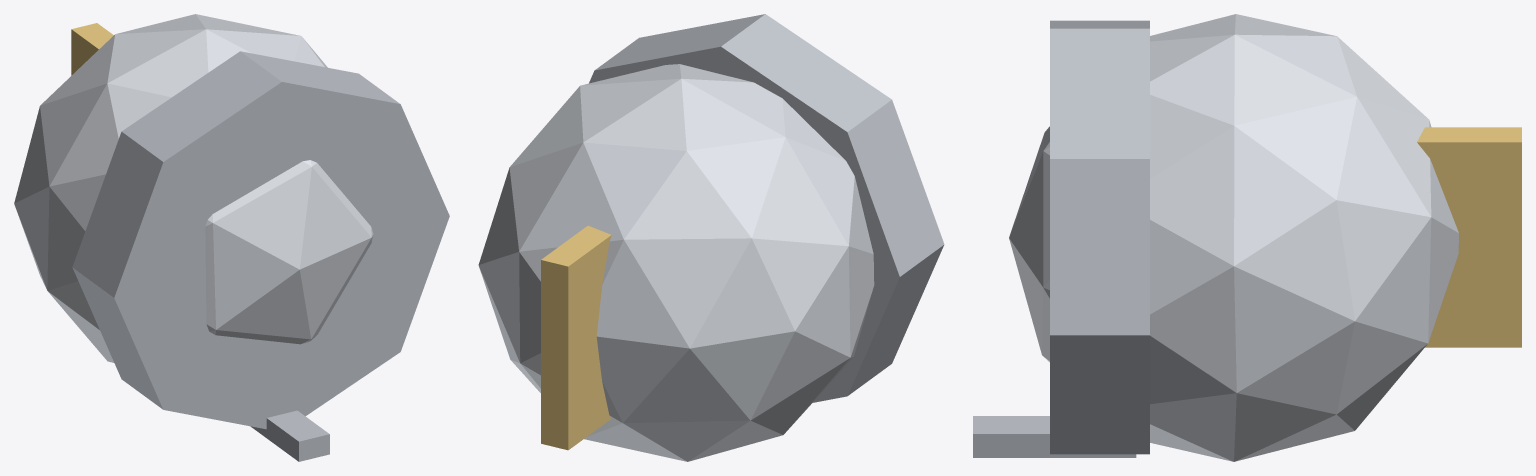
File: HelmetBastion.fbx
3 renders of one model, left to right at view 1: azimuth 30°, elevation 25°; view 2: azimuth 150°, elevation 25°; view 3: azimuth 270°, elevation 25°, orthographic. The views are drawn at different scales.
Visible parts, largest first — view 1: fam_steel_dark, fam_steel, fam_gold; view 2: fam_steel, fam_steel_dark, fam_gold; view 3: fam_steel, fam_steel_dark, fam_gold.
Boxes of the visible parts, x1=… form: fam_steel_dark: x1=72, y1=51, x2=449, y2=461; fam_steel: x1=14, y1=14, x2=373, y2=362; fam_gold: x1=71, y1=23, x2=113, y2=75; fam_steel: x1=478, y1=64, x2=874, y2=461; fam_steel_dark: x1=589, y1=14, x2=944, y2=402; fam_gold: x1=541, y1=225, x2=611, y2=450; fam_steel: x1=1009, y1=14, x2=1458, y2=461; fam_steel_dark: x1=973, y1=20, x2=1149, y2=457; fam_gold: x1=1417, y1=127, x2=1521, y2=347.
Bounding box in the file's own units: 7.13 × 7.16 × 8.47.
